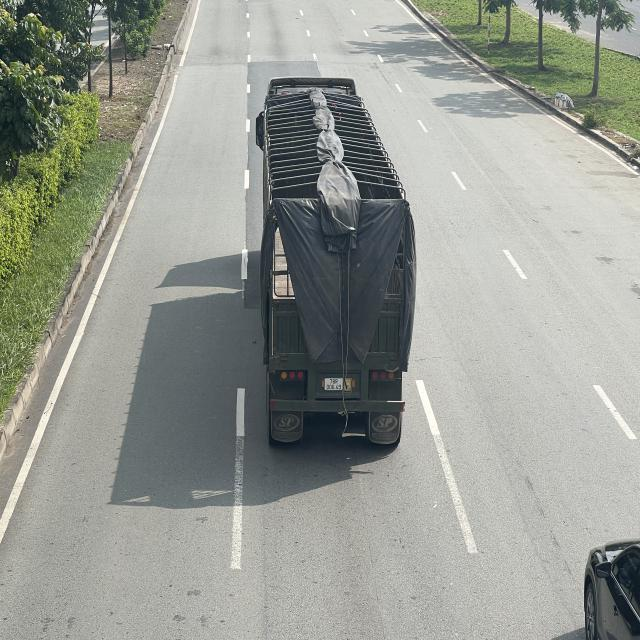container: (252, 76, 414, 452)
